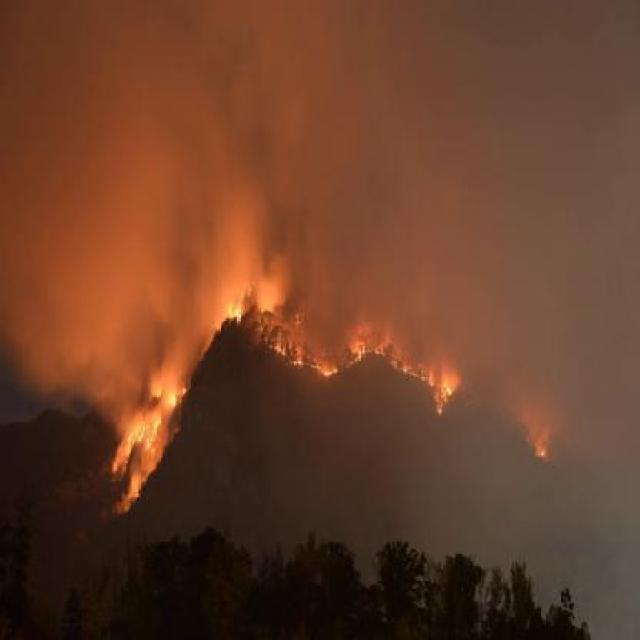Fire: (111, 420, 164, 514), (373, 344, 433, 390), (274, 342, 337, 373), (226, 279, 257, 324), (434, 378, 452, 416), (345, 346, 367, 368), (166, 388, 188, 406), (536, 446, 546, 459), (154, 384, 162, 400)
